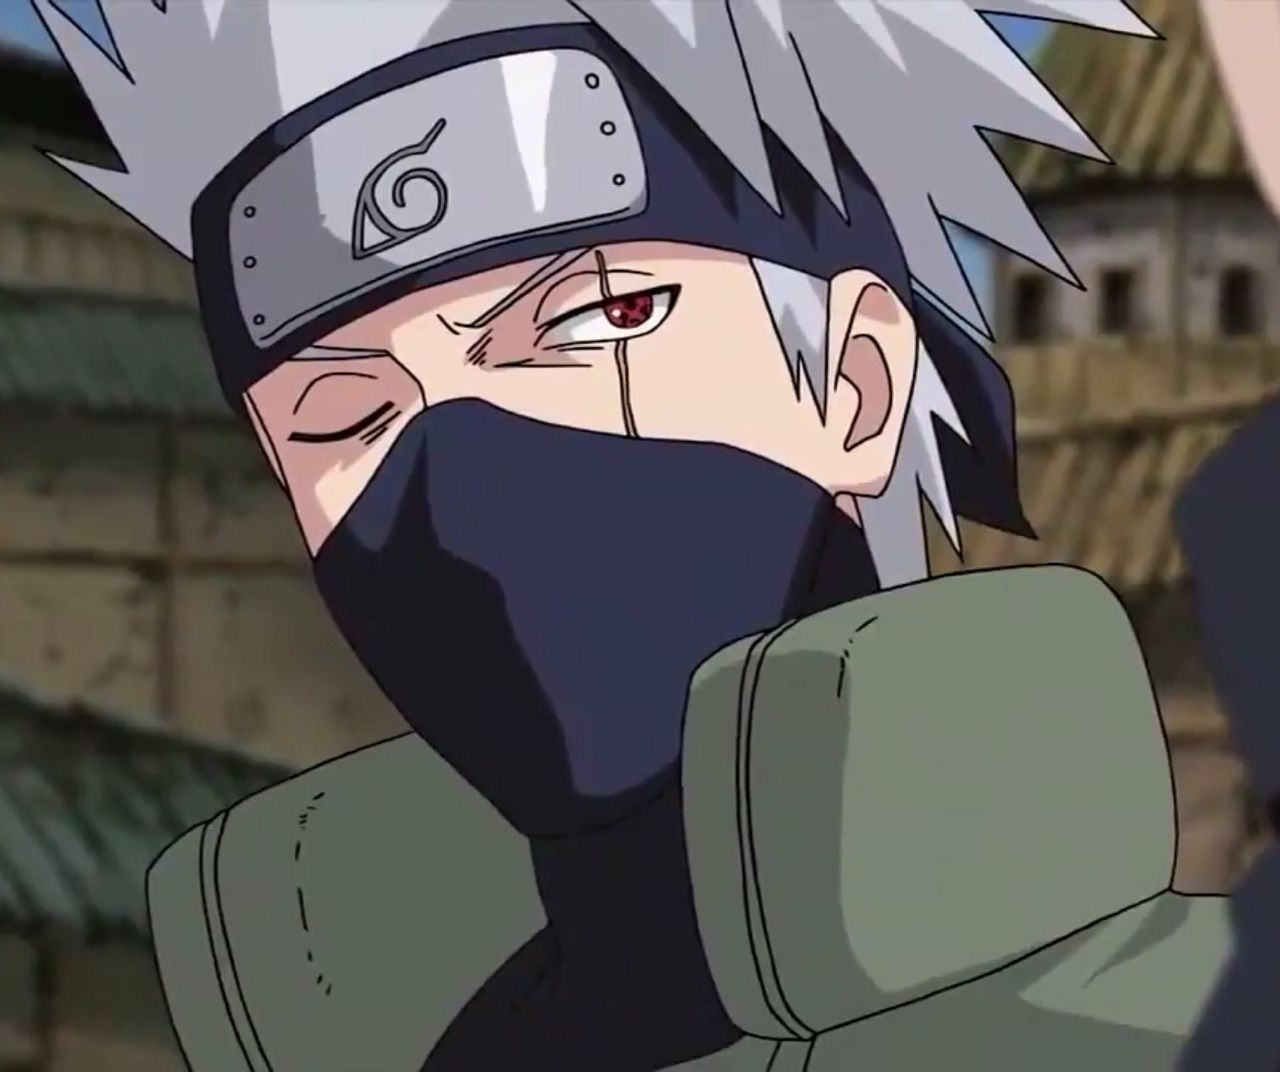kakashi: (188, 14, 927, 826)
